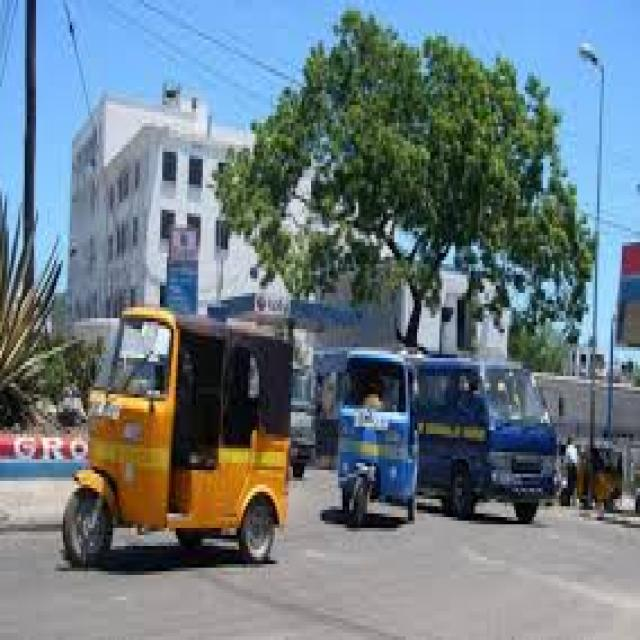tuktuk: (34, 255, 306, 640), (328, 339, 432, 587)
